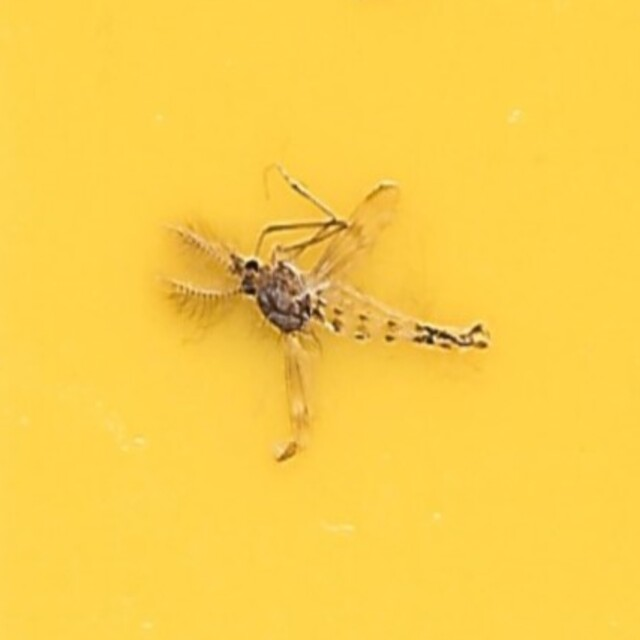Nematocera: (150, 177, 490, 463)
